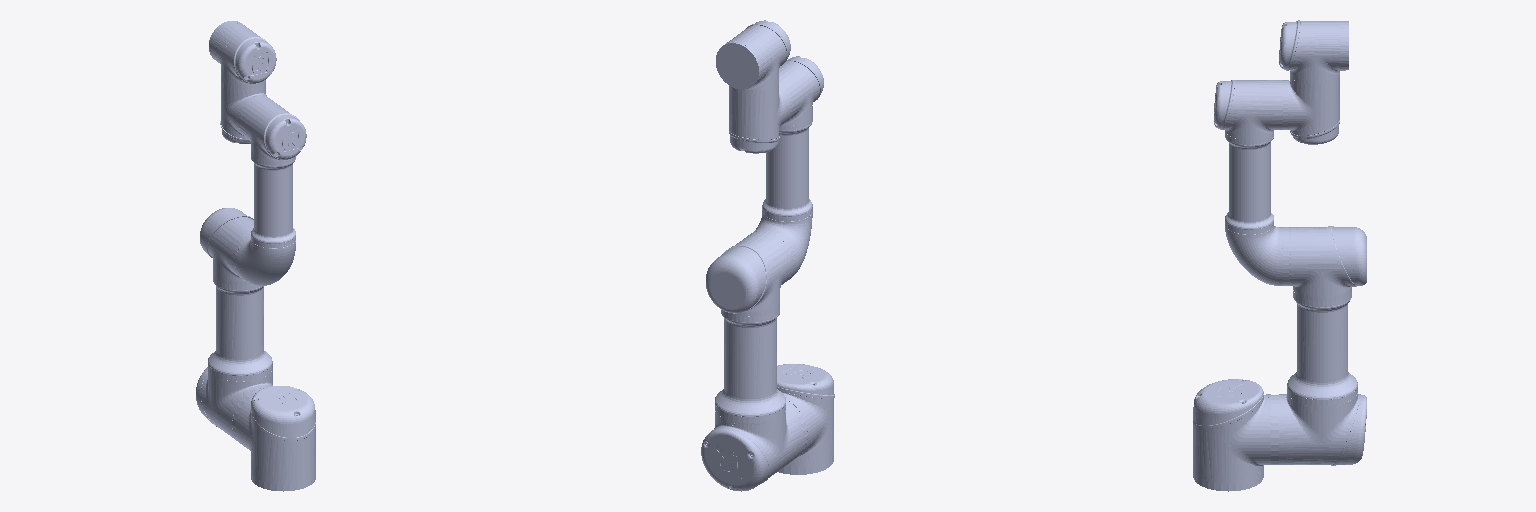
The robot description file, URDF, robot "UR3":
<?xml version="1.0" encoding="utf-8"?>
<!-- This URDF was automatically created by SolidWorks to URDF Exporter! Originally created by [author] ([email redacted]) 
     Commit Version: 1.6.0-4-g7f85cfe  Build Version: 1.6.7995.38578
     For more information, please see http://wiki.ros.org/sw_urdf_exporter -->
<robot
  name="UR3">
  <link
    name="base_link">
    <inertial>
      <origin
        xyz="6.5588E-06 0.14034 -0.0073371"
        rpy="0 0 0" />
      <mass
        value="0.756" />
      <inertia
        ixx="0.001069"
        ixy="9.4972E-08"
        ixz="1.0274E-07"
        iyy="0.00090658"
        iyz="0.00013106"
        izz="0.00099021" />
    </inertial>
    <visual>
      <origin
        xyz="0 0 0"
        rpy="0 0 0" />
      <geometry>
        <mesh
          filename="package://UR3/meshes/base_link.STL" />
      </geometry>
      <material
        name="">
        <color
          rgba="0.79216 0.81961 0.93333 1" />
      </material>
    </visual>
    <collision>
      <origin
        xyz="0 0 0"
        rpy="0 0 0" />
      <geometry>
        <mesh
          filename="package://UR3/meshes/base_link.STL" />
      </geometry>
    </collision>
  </link>
  <link
    name="link1">
    <inertial>
      <origin
        xyz="-6.5588E-06 0.055939 0.0073371"
        rpy="0 0 0" />
      <mass
        value="0.756" />
      <inertia
        ixx="0.001069"
        ixy="-9.4972E-08"
        ixz="1.0274E-07"
        iyy="0.00090658"
        iyz="-0.00013106"
        izz="0.00099021" />
    </inertial>
    <visual>
      <origin
        xyz="0 0 0"
        rpy="0 0 0" />
      <geometry>
        <mesh
          filename="package://UR3/meshes/link1.STL" />
      </geometry>
      <material
        name="">
        <color
          rgba="0.79216 0.81961 0.93333 1" />
      </material>
    </visual>
    <collision>
      <origin
        xyz="0 0 0"
        rpy="0 0 0" />
      <geometry>
        <mesh
          filename="package://UR3/meshes/link1.STL" />
      </geometry>
    </collision>
  </link>
  <joint
    name="joint1"
    type="fixed">
    <origin
      xyz="0 0 0.0844"
      rpy="1.5708 0 -3.1416" />
    <parent
      link="base_link" />
    <child
      link="link1" />
    <axis
      xyz="0 0 0" />
    <limit
      lower="-3.14"
      upper="3.14"
      effort="100"
      velocity="1" />
  </joint>
  <link
    name="link2">
    <inertial>
      <origin
        xyz="-2.4217E-06 0.064246 0.10569"
        rpy="0 0 0" />
      <mass
        value="1.802" />
      <inertia
        ixx="0.0026498"
        ixy="-9.0439E-08"
        ixz="1.0326E-07"
        iyy="0.0025175"
        iyz="-8.1097E-05"
        izz="0.0016701" />
    </inertial>
    <visual>
      <origin
        xyz="0 0 0"
        rpy="0 0 0" />
      <geometry>
        <mesh
          filename="package://UR3/meshes/link2.STL" />
      </geometry>
      <material
        name="">
        <color
          rgba="0.79216 0.81961 0.93333 1" />
      </material>
    </visual>
    <collision>
      <origin
        xyz="0 0 0"
        rpy="0 0 0" />
      <geometry>
        <mesh
          filename="package://UR3/meshes/link2.STL" />
      </geometry>
    </collision>
  </link>
  <joint
    name="joint2"
    type="fixed">
    <origin
      xyz="0 0.0675 0.05235"
      rpy="1.5708 0 -3.1416" />
    <parent
      link="link1" />
    <child
      link="link2" />
    <axis
      xyz="0 0 0" />
  </joint>
  <link
    name="link3">
    <inertial>
      <origin
        xyz="-0.0051485 -0.11117 -5.2478E-07"
        rpy="0 0 0" />
      <mass
        value="0.9624" />
      <inertia
        ixx="0.001015"
        ixy="4.6188E-05"
        ixz="1.0599E-08"
        iyy="0.00054278"
        iyz="-9.41E-09"
        izz="0.0010729" />
    </inertial>
    <visual>
      <origin
        xyz="0 0 0"
        rpy="0 0 0" />
      <geometry>
        <mesh
          filename="package://UR3/meshes/link3.STL" />
      </geometry>
      <material
        name="">
        <color
          rgba="0.79216 0.81961 0.93333 1" />
      </material>
    </visual>
    <collision>
      <origin
        xyz="0 0 0"
        rpy="0 0 0" />
      <geometry>
        <mesh
          filename="package://UR3/meshes/link3.STL" />
      </geometry>
    </collision>
  </link>
  <joint
    name="joint3"
    type="fixed">
    <origin
      xyz="0 -0.02535 0.24365"
      rpy="-1.5708 0 -1.5708" />
    <parent
      link="link2" />
    <child
      link="link3" />
    <axis
      xyz="0 0 0" />
  </joint>
  <link
    name="link4">
    <inertial>
      <origin
        xyz="0.0059208 -0.00051753 1.427E-07"
        rpy="0 0 0" />
      <mass
        value="0.3252" />
      <inertia
        ixx="0.00019459"
        ixy="1.8339E-05"
        ixz="6.1469E-10"
        iyy="0.00019909"
        iyz="5.2043E-10"
        izz="0.00022621" />
    </inertial>
    <visual>
      <origin
        xyz="0 0 0"
        rpy="0 0 0" />
      <geometry>
        <mesh
          filename="package://UR3/meshes/link4.STL" />
      </geometry>
      <material
        name="">
        <color
          rgba="0.79216 0.81961 0.93333 1" />
      </material>
    </visual>
    <collision>
      <origin
        xyz="0 0 0"
        rpy="0 0 0" />
      <geometry>
        <mesh
          filename="package://UR3/meshes/link4.STL" />
      </geometry>
    </collision>
  </link>
  <joint
    name="joint4"
    type="fixed">
    <origin
      xyz="-0.0834 -0.213 0"
      rpy="-3.1416 0 0" />
    <parent
      link="link3" />
    <child
      link="link4" />
    <axis
      xyz="0 0 0" />
  </joint>
  <link
    name="link5">
    <inertial>
      <origin
        xyz="0.0059208 0.00051753 -1.7169E-07"
        rpy="0 0 0" />
      <mass
        value="0.32519" />
      <inertia
        ixx="0.00019459"
        ixy="-1.834E-05"
        ixz="-6.28E-10"
        iyy="0.00019909"
        iyz="5.7958E-10"
        izz="0.00022621" />
    </inertial>
    <visual>
      <origin
        xyz="0 0 0"
        rpy="0 0 0" />
      <geometry>
        <mesh
          filename="package://UR3/meshes/link5.STL" />
      </geometry>
      <material
        name="">
        <color
          rgba="0.79216 0.81961 0.93333 1" />
      </material>
    </visual>
    <collision>
      <origin
        xyz="0 0 0"
        rpy="0 0 0" />
      <geometry>
        <mesh
          filename="package://UR3/meshes/link5.STL" />
      </geometry>
    </collision>
  </link>
  <joint
    name="joint5"
    type="fixed">
    <origin
      xyz="0 0.0834 0"
      rpy="0 0 -1.5708" />
    <parent
      link="link4" />
    <child
      link="link5" />
    <axis
      xyz="0 0 0" />
  </joint>
  <link
    name="link6">
    <inertial>
      <origin
        xyz="-1.0101E-10 0.0001033 -0.021073"
        rpy="0 0 0" />
      <mass
        value="0.11536" />
      <inertia
        ixx="4.2472E-05"
        ixy="-5.8594E-13"
        ixz="1.0897E-12"
        iyy="4.2687E-05"
        iyz="1.0322E-07"
        izz="5.9069E-05" />
    </inertial>
    <visual>
      <origin
        xyz="0 0 0"
        rpy="0 0 0" />
      <geometry>
        <mesh
          filename="package://UR3/meshes/link6.STL" />
      </geometry>
      <material
        name="">
        <color
          rgba="0.79216 0.81961 0.93333 1" />
      </material>
    </visual>
    <collision>
      <origin
        xyz="0 0 0"
        rpy="0 0 0" />
      <geometry>
        <mesh
          filename="package://UR3/meshes/link6.STL" />
      </geometry>
    </collision>
  </link>
  <joint
    name="joint6"
    type="fixed">
    <origin
      xyz="0 -0.0409 0"
      rpy="1.5708 -1.5708 0" />
    <parent
      link="link5" />
    <child
      link="link6" />
    <axis
      xyz="0 0 0" />
  </joint>
</robot>

--- Facts derived from the render (not from the file) ---
Views: 3 orthographic renders of the robot side by side, from view 1: azimuth 30°, elevation 25°; view 2: azimuth 150°, elevation 25°; view 3: azimuth 270°, elevation 25°.
Robot: UR3 — 7 links, 6 joints (6 fixed); root link base_link; default pose: all joints at 0.
Visible links, largest first — view 1: link2, link3, base_link, link5, link4, link1; view 2: link2, link3, link5, link4, link1, base_link; view 3: link2, link3, base_link, link1, link5, link4, link6.
Boxes of the visible links, left/top/right/bottom form: link2: left=196, top=208, right=272, bottom=443; link3: left=232, top=97, right=306, bottom=285; base_link: left=236, top=386, right=315, bottom=491; link5: left=209, top=21, right=276, bottom=88; link4: left=220, top=82, right=267, bottom=143; link1: left=250, top=388, right=315, bottom=490; link2: left=701, top=231, right=807, bottom=491; link3: left=751, top=56, right=823, bottom=281; link5: left=716, top=20, right=790, bottom=93; link4: left=729, top=84, right=791, bottom=153; link1: left=777, top=364, right=833, bottom=474; base_link: left=777, top=364, right=834, bottom=474; link2: left=1271, top=226, right=1366, bottom=465; link3: left=1214, top=80, right=1288, bottom=285; base_link: left=1193, top=379, right=1270, bottom=490; link1: left=1196, top=379, right=1270, bottom=491; link5: left=1279, top=20, right=1348, bottom=84; link4: left=1283, top=75, right=1339, bottom=144; link6: left=1315, top=21, right=1345, bottom=70.
Size in the robot's own frame: 0.0913 by 0.2229 by 0.6382 metres.
7 mesh visuals loaded from 7 distinct referenced files (7 binary STL).